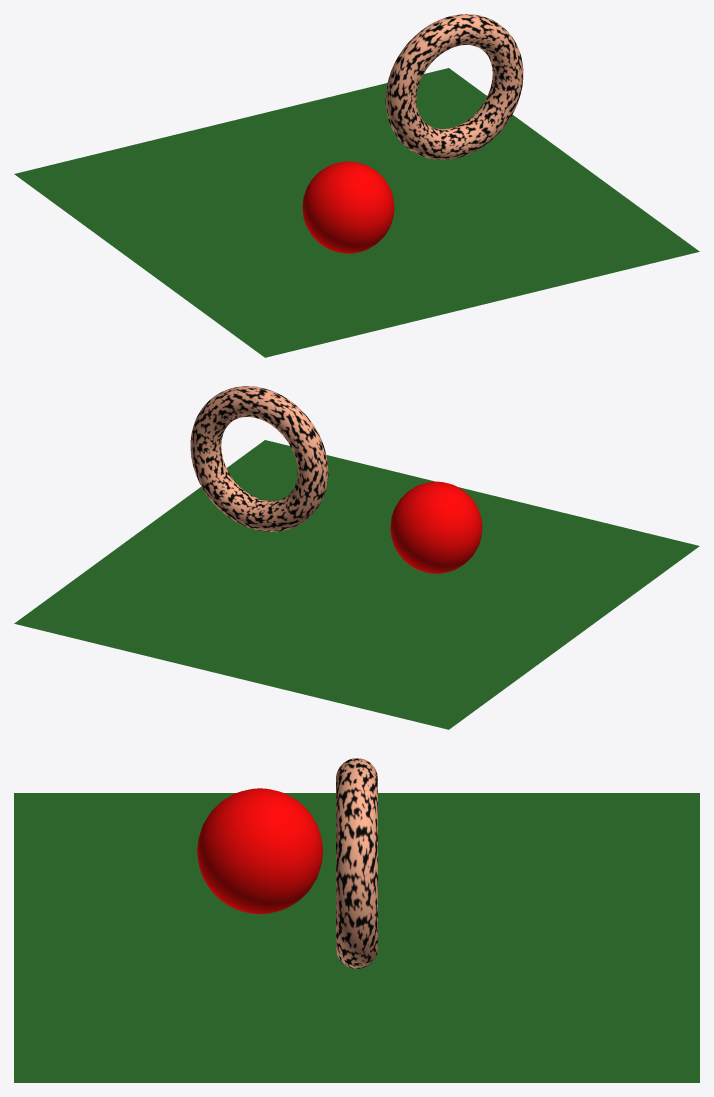
File: fur.glb
3 renders of one model, top to bottom at view 1: azimuth 30°, elevation 25°; view 2: azimuth 150°, elevation 25°; view 3: azimuth 270°, elevation 25°, orthographic. The views are drawn at different scales.
Parts seen in each view (by area): view 1: ground, torus, sphere; view 2: ground, torus, sphere; view 3: ground, sphere, torus.
Part boxes in pixels (bbox=[...]): ground: bbox=[14, 68, 699, 357]; torus: bbox=[385, 14, 523, 159]; sphere: bbox=[302, 161, 394, 253]; ground: bbox=[14, 440, 699, 729]; torus: bbox=[190, 386, 328, 531]; sphere: bbox=[390, 481, 482, 573]; ground: bbox=[14, 793, 699, 1082]; sphere: bbox=[197, 788, 322, 914]; torus: bbox=[336, 758, 377, 968].
Bounding box in the file's own units: 4.46 × 1.68 × 4.46.
3 materials, 3 textured.
